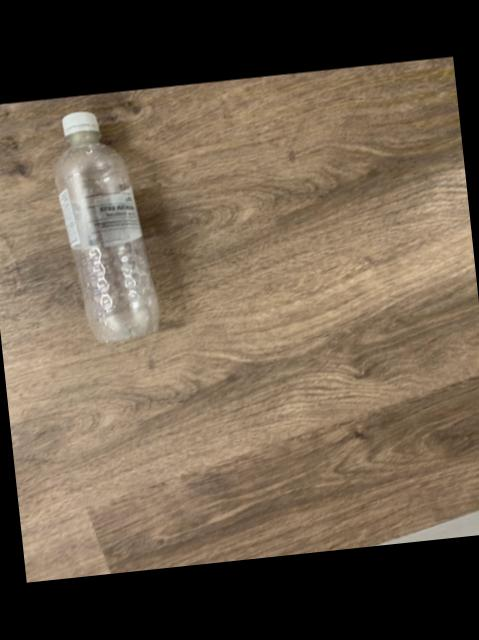plastic: (53, 111, 156, 341)
